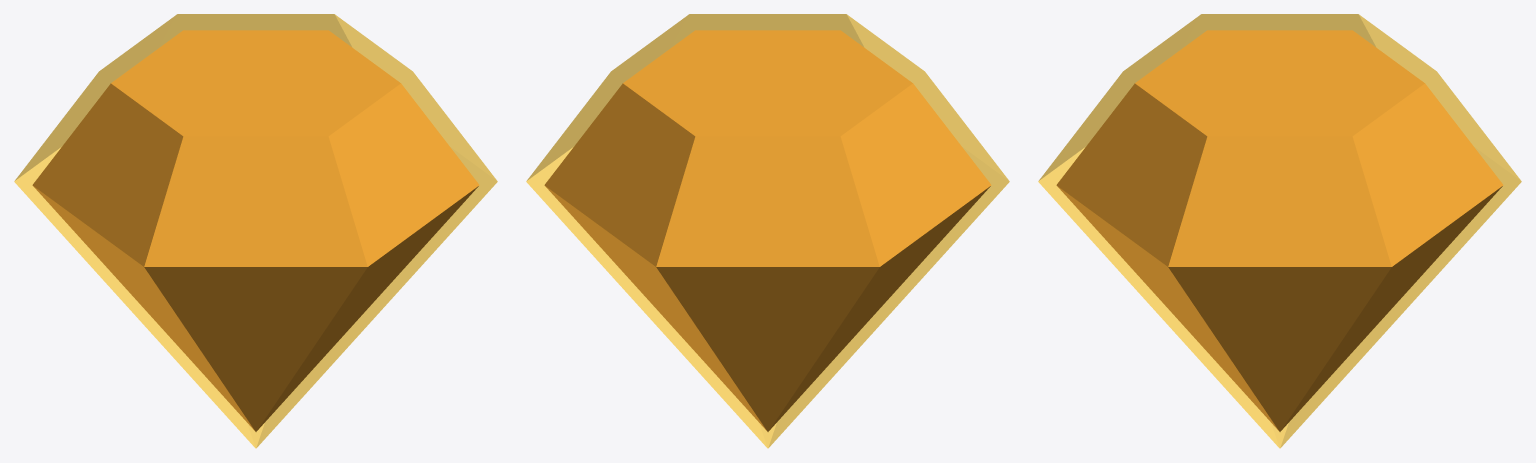
File: gemGold.glb
3 renders of one model, left to right at view 1: azimuth 30°, elevation 25°; view 2: azimuth 150°, elevation 25°; view 3: azimuth 270°, elevation 25°, orthographic.
Parts seen in each view (by area): view 1: GemYellowAnimated, GemYellowAnimatedOutline; view 2: GemYellowAnimated, GemYellowAnimatedOutline; view 3: GemYellowAnimated, GemYellowAnimatedOutline.
Boxes of the visible parts, <box> form: GemYellowAnimated: <box>32,30,479,431</box>; GemYellowAnimatedOutline: <box>14,14,497,448</box>; GemYellowAnimated: <box>544,30,991,431</box>; GemYellowAnimatedOutline: <box>526,14,1009,448</box>; GemYellowAnimated: <box>1056,30,1503,431</box>; GemYellowAnimatedOutline: <box>1038,14,1521,448</box>.
Size of the model in its own units: 1.1 by 1.09 by 1.27.
Materials: 2 (2 with a texture image).
